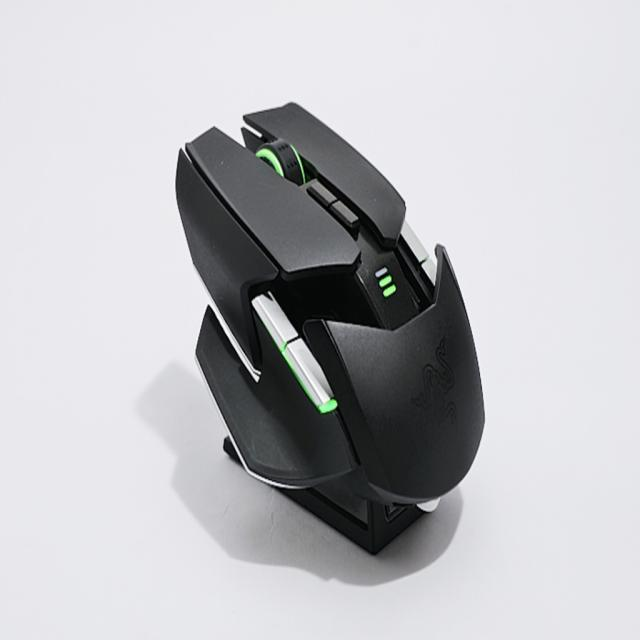Computer-mouse: (172, 98, 486, 556)
